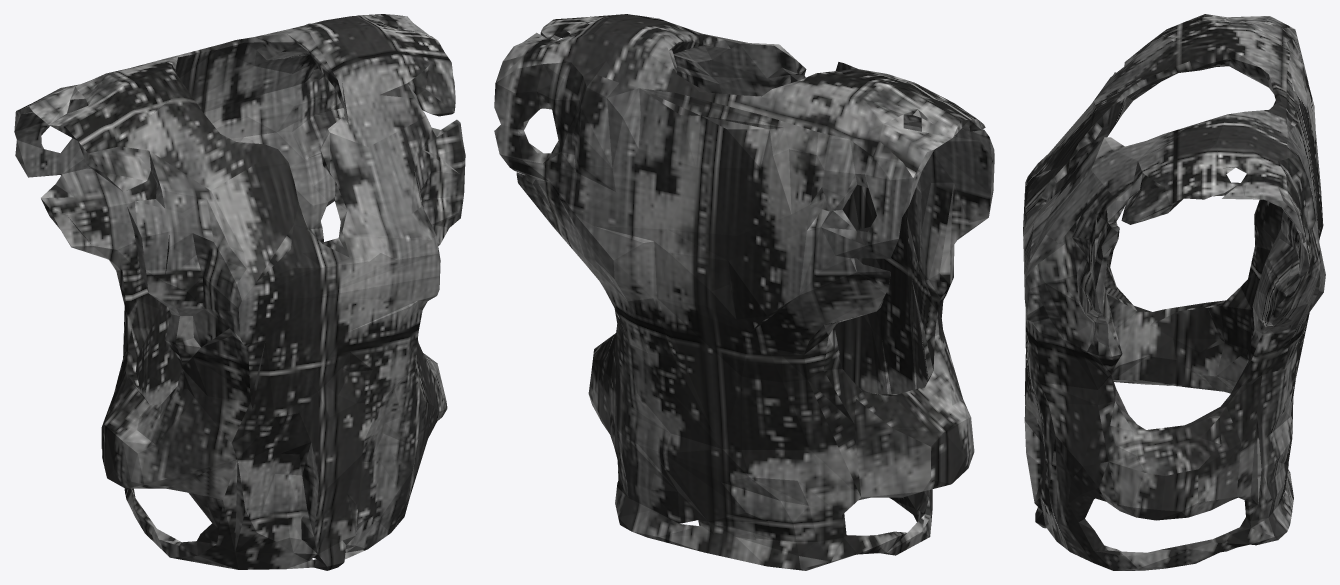
3 views of the same model, side by side, from view 1: azimuth 30°, elevation 25°; view 2: azimuth 150°, elevation 25°; view 3: azimuth 270°, elevation 25° (orthographic). The views are drawn at different scales.
Visible parts, largest first — view 1: textured; view 2: textured; view 3: textured.
Part boxes in pixels (left/top/right/bottom): textured: left=14, top=14, right=465, bottom=570; textured: left=494, top=14, right=994, bottom=570; textured: left=1023, top=14, right=1325, bottom=570.
Bounding box in the file's own units: 0.8789 × 1 × 0.6175.
Materials: 1 (1 with a texture image).
